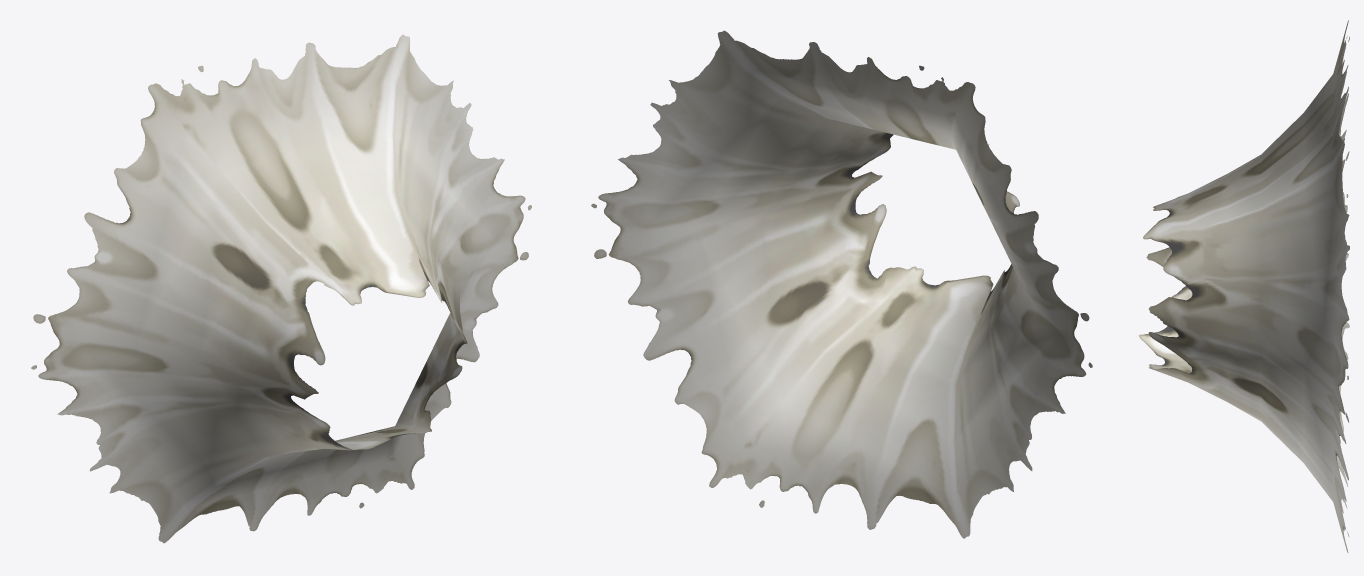
Rendered from Cone02_2fac4440__Paste_0_c9502fc7_c1f257.obj.
The picture shows the model from 3 angles, left to right: view 1: azimuth 30°, elevation 25°; view 2: azimuth 150°, elevation 25°; view 3: azimuth 270°, elevation 25°; orthographic projection. The views are drawn at different scales.
Bounding box in the file's own units: 2.11 × 1.83 × 0.8201.
1 material, 1 textured.
